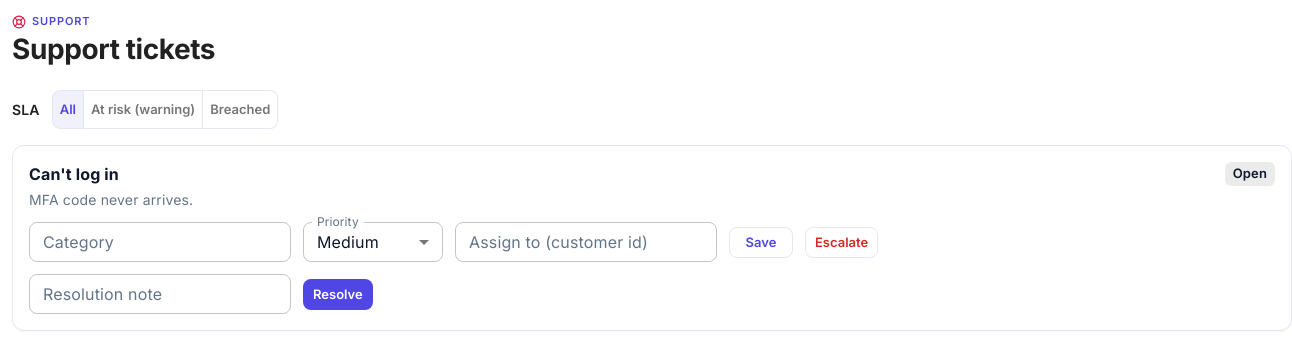
AdminSupportTicketsPage › shows an empty state when nothing matches the SLA filter
Click the button "Breached": x=240, y=110 [202,90,278,129]
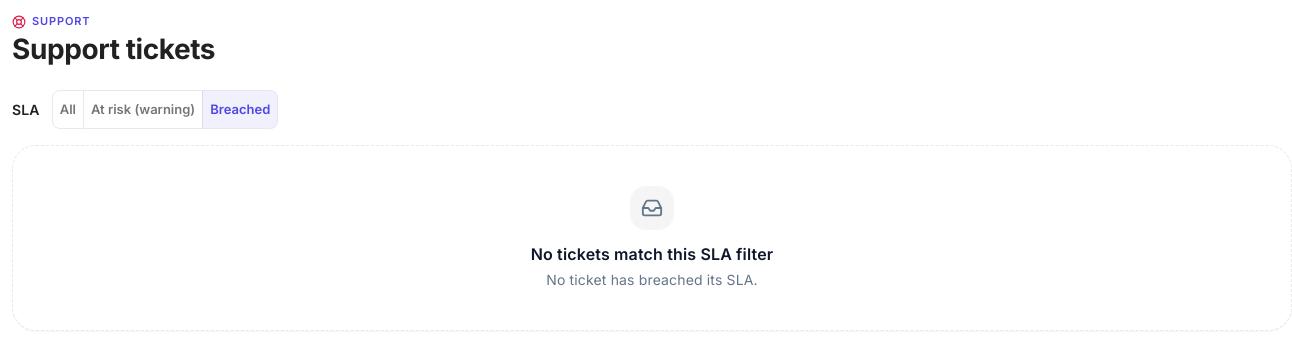
Now the text "No ticket has breached its SLA." is shown, box [546,271,758,288]
